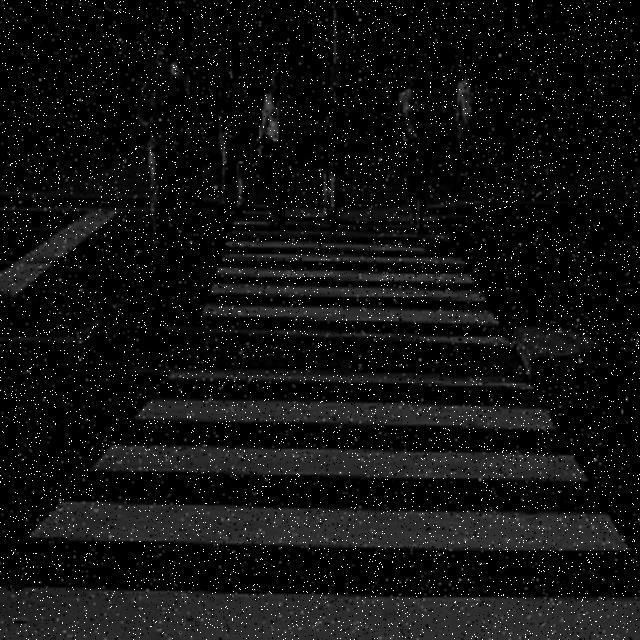Pedestrian crosswalk: (2, 214, 640, 637)
